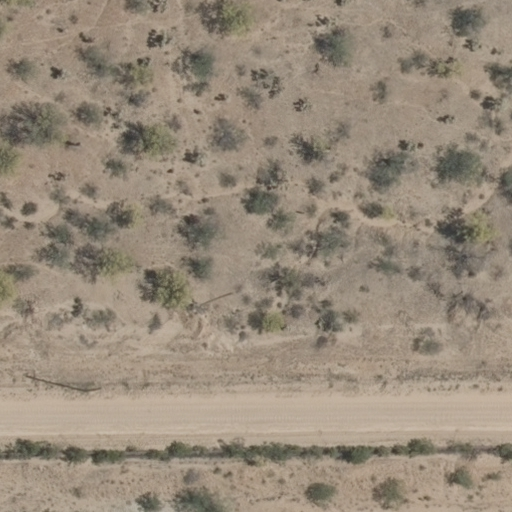DT: (77, 380, 104, 396)
